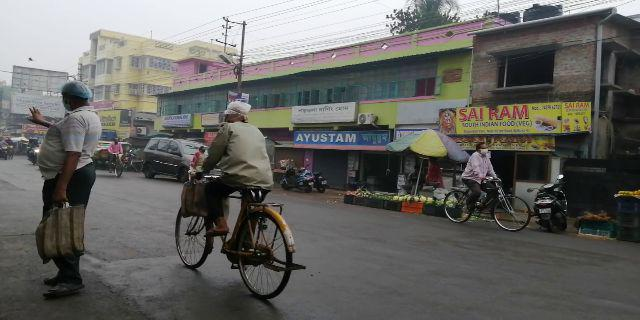Cycle: (166, 97, 305, 300), (438, 140, 532, 234)
Motorbike: (531, 172, 570, 236)
